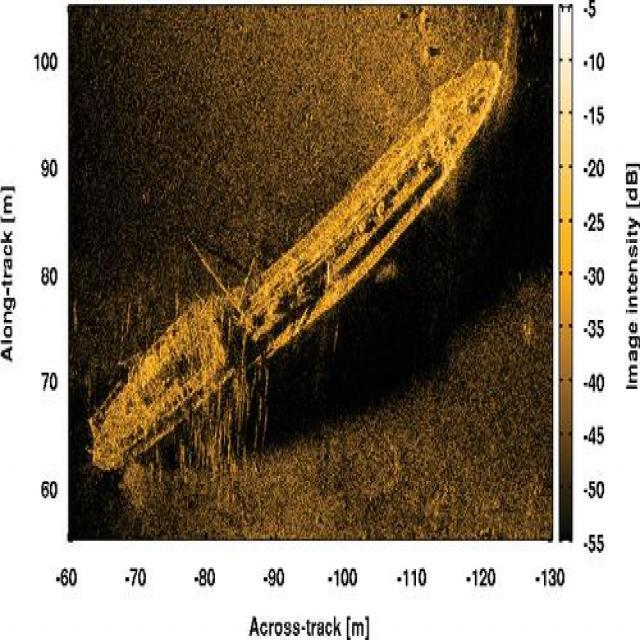shipwreck: (87, 52, 502, 482)
